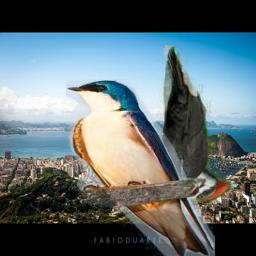Swallow: (66, 79, 215, 256)
Woodpecker: (140, 45, 231, 206)
